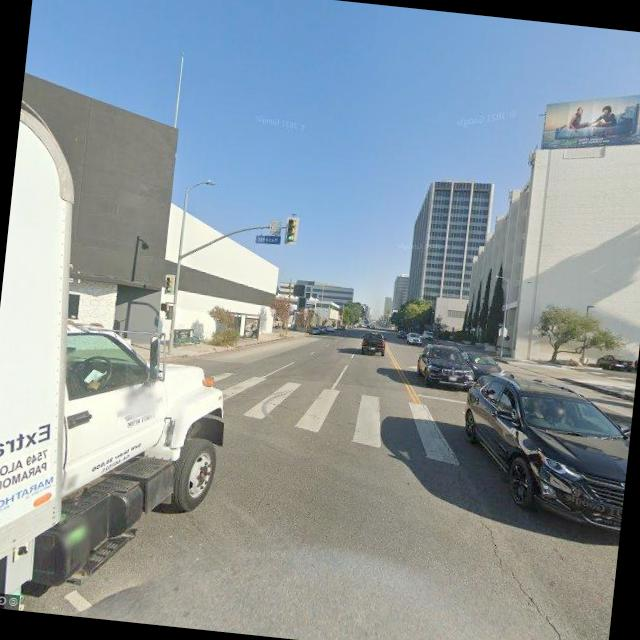pothole: (460, 509, 583, 640)
